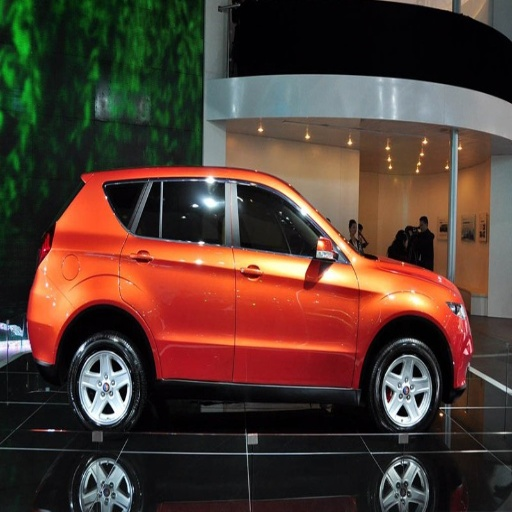back_right_door: (120, 177, 241, 404)
front_right_door: (229, 177, 353, 403)
